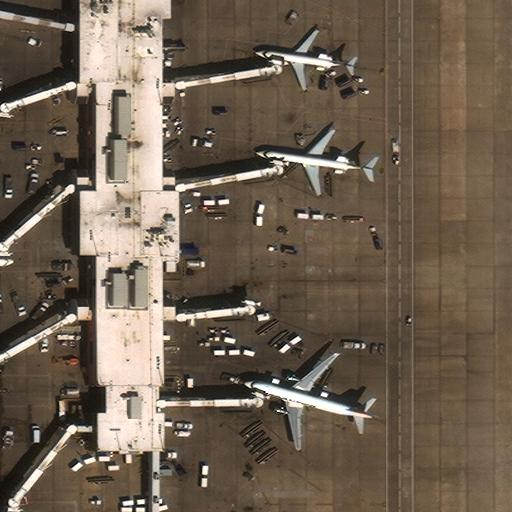Medium Civil Transport: (242, 353, 371, 451), (255, 129, 374, 196), (254, 28, 355, 91)
